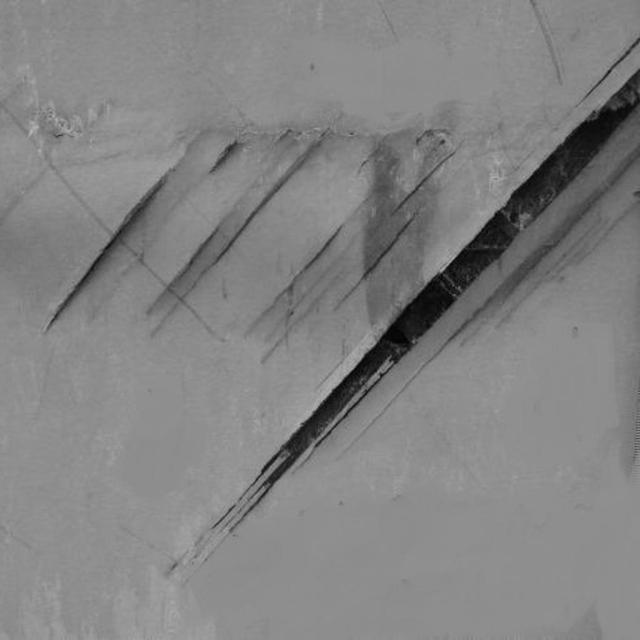crack: (198, 80, 640, 550), (40, 152, 181, 324)
